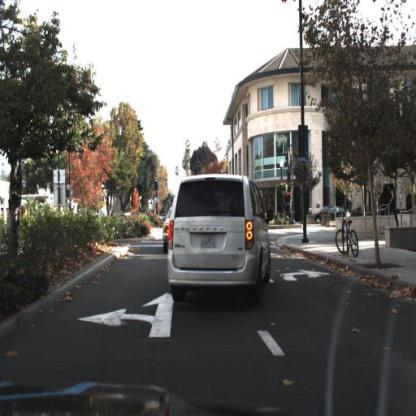car: (164, 172, 273, 309), (314, 203, 349, 228), (313, 205, 346, 227)
pedestrian: (386, 178, 399, 233)
trafficLight-Red: (155, 180, 159, 192)
